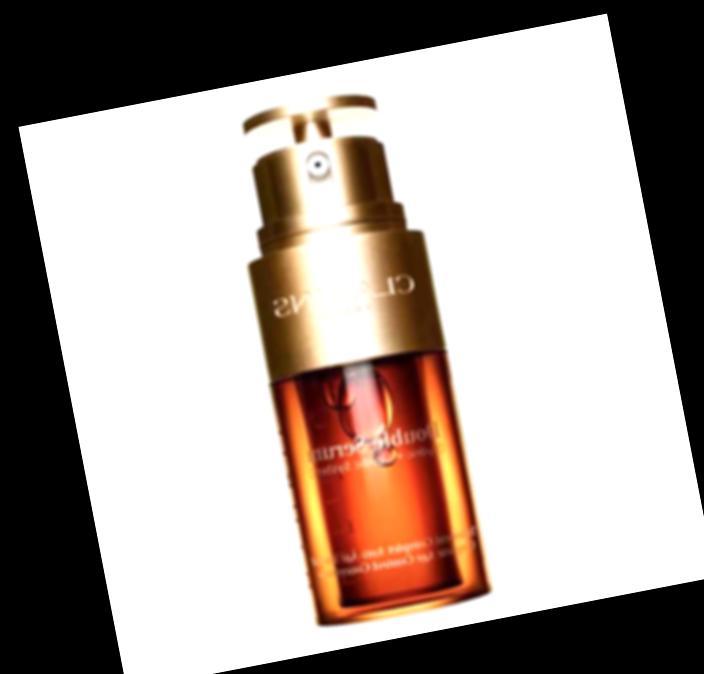cosmetic: (214, 74, 499, 626)
